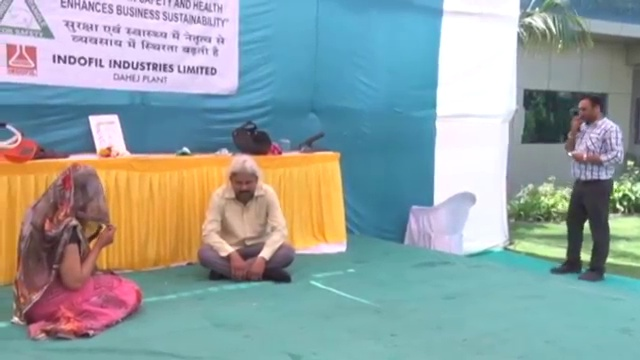helmet_off: (54, 163, 103, 210), (226, 156, 262, 202), (577, 95, 604, 126)
person: (12, 162, 142, 344), (551, 94, 625, 283), (194, 152, 295, 283)
